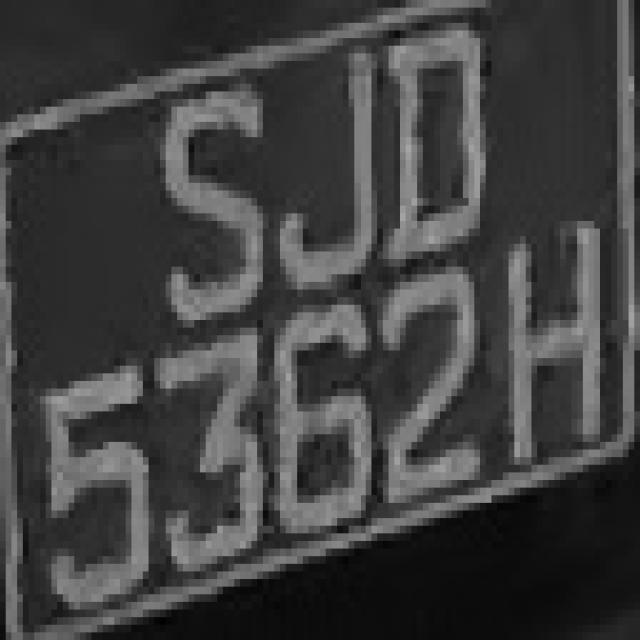2: (366, 252, 486, 510)
3: (143, 304, 268, 586)
5: (23, 343, 160, 609)
6: (268, 274, 383, 549)
D: (388, 15, 492, 267)
H: (492, 213, 628, 488)
J: (263, 38, 377, 297)
S: (137, 69, 269, 328)
